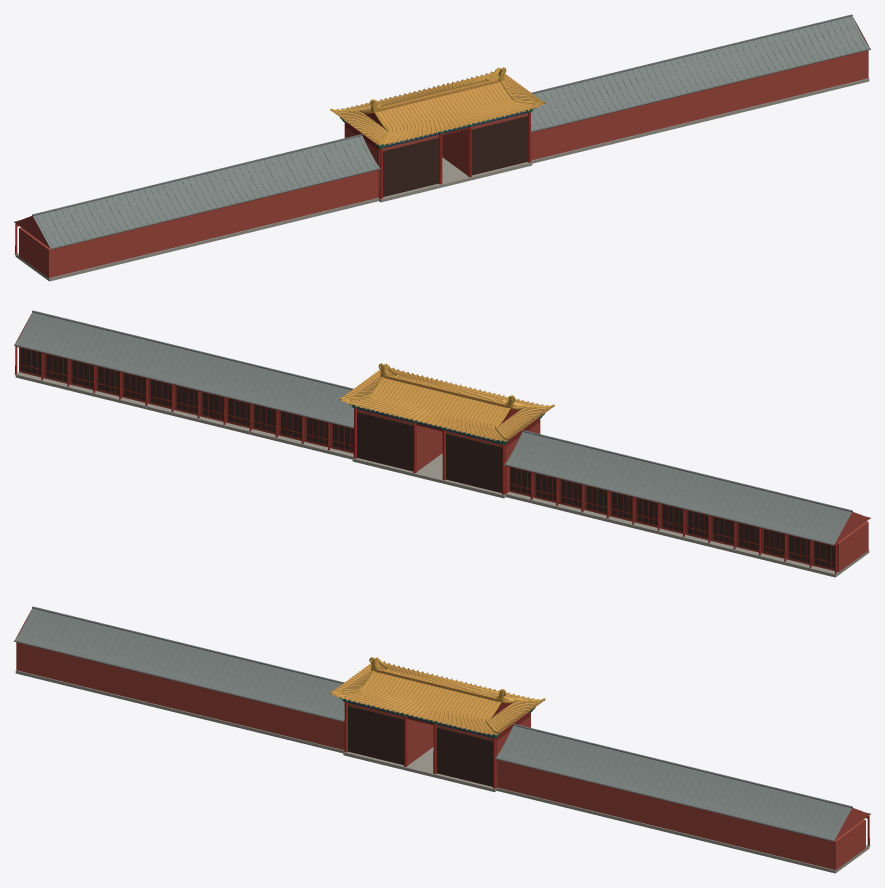
The model's file is axis-se-preview.glb.
The picture shows the model from 3 angles, top to bottom: view 1: azimuth 30°, elevation 25°; view 2: azimuth 150°, elevation 25°; view 3: azimuth 330°, elevation 25°; orthographic projection.
Visible parts, largest first — view 1: axis-se grayRoof, axis-se wall, axis-se roof, axis-se wood, axis-se grayTile, axis-se tile, axis-se stone, axis-se grayRidge, axis-se red, axis-se gold; view 2: axis-se grayRoof, axis-se wood, axis-se roof, axis-se redDark, axis-se stone, axis-se wall, axis-se grayTile, axis-se tile, axis-se red, axis-se grayRidge, axis-se gold; view 3: axis-se grayRoof, axis-se wall, axis-se roof, axis-se wood, axis-se grayTile, axis-se tile, axis-se stone, axis-se grayRidge, axis-se red, axis-se gold.
Boxes of the visible parts, box(x1,y1,x2,y2) form: axis-se grayRoof: box(33, 16, 869, 248); axis-se wall: box(15, 18, 869, 277); axis-se roof: box(332, 71, 542, 144); axis-se wood: box(382, 116, 527, 196); axis-se grayTile: box(36, 17, 866, 247); axis-se tile: box(332, 69, 543, 145); axis-se stone: box(14, 78, 869, 281); axis-se grayRidge: box(14, 14, 870, 249); axis-se red: box(15, 112, 531, 253); axis-se gold: box(330, 67, 545, 144); axis-se grayRoof: box(15, 312, 851, 544); axis-se wood: box(20, 348, 834, 568); axis-se roof: box(342, 367, 552, 440); axis-se redDark: box(19, 348, 837, 570); axis-se stone: box(14, 372, 869, 577); axis-se wall: box(15, 314, 869, 571); axis-se grayTile: box(18, 313, 848, 543); axis-se tile: box(341, 365, 552, 441); axis-se red: box(15, 346, 836, 573); axis-se grayRidge: box(14, 310, 870, 545); axis-se gold: box(339, 363, 554, 440); axis-se grayRoof: box(15, 608, 851, 840); axis-se wall: box(15, 610, 869, 869); axis-se roof: box(333, 661, 543, 734); axis-se wood: box(348, 706, 492, 786); axis-se grayTile: box(17, 609, 848, 839); axis-se tile: box(332, 659, 543, 735); axis-se stone: box(15, 670, 870, 873); axis-se grayRidge: box(14, 606, 870, 841); axis-se red: box(344, 702, 869, 845); axis-se gold: box(330, 657, 545, 734).
Size of the model in its own units: 1.29 by 0.1297 by 0.1301.
